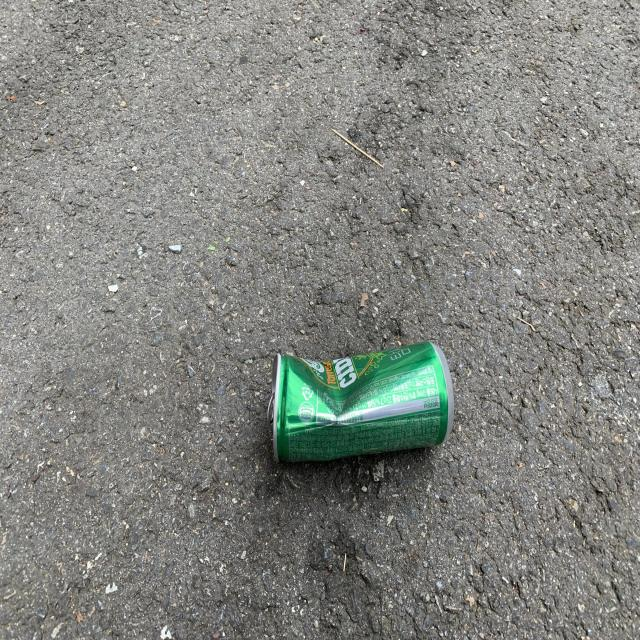can: (268, 342, 455, 461)
